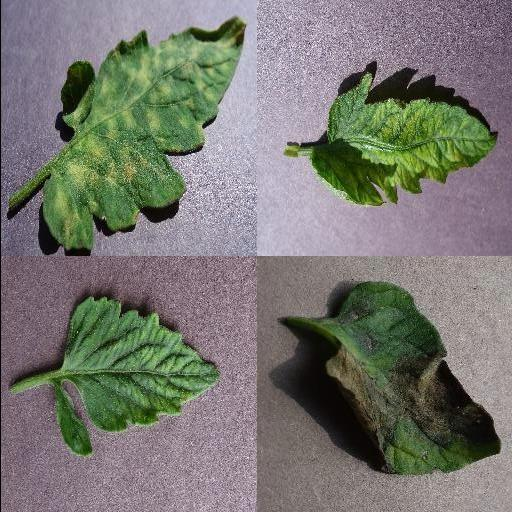Late Blight: (322, 282, 502, 476)
Leaf Mold: (39, 17, 247, 252)
Mosaic Virus: (52, 292, 222, 458), (310, 72, 496, 208)
